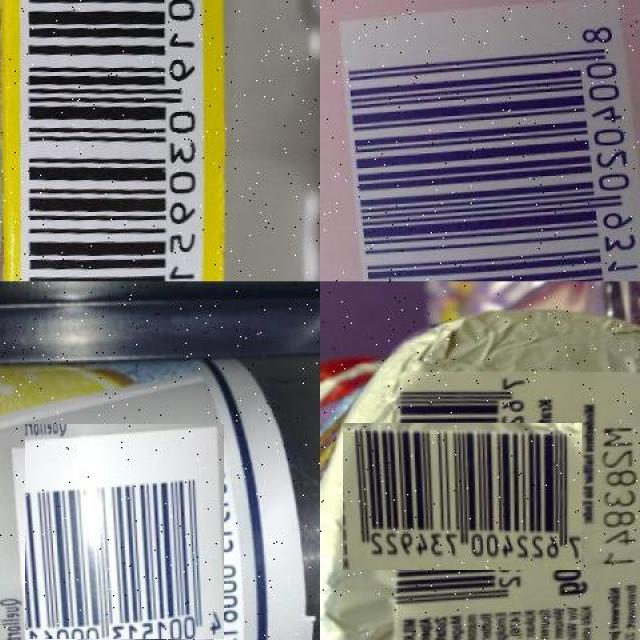Barcode: (334, 0, 640, 281), (5, 0, 206, 281), (16, 432, 232, 640), (366, 400, 559, 593)
